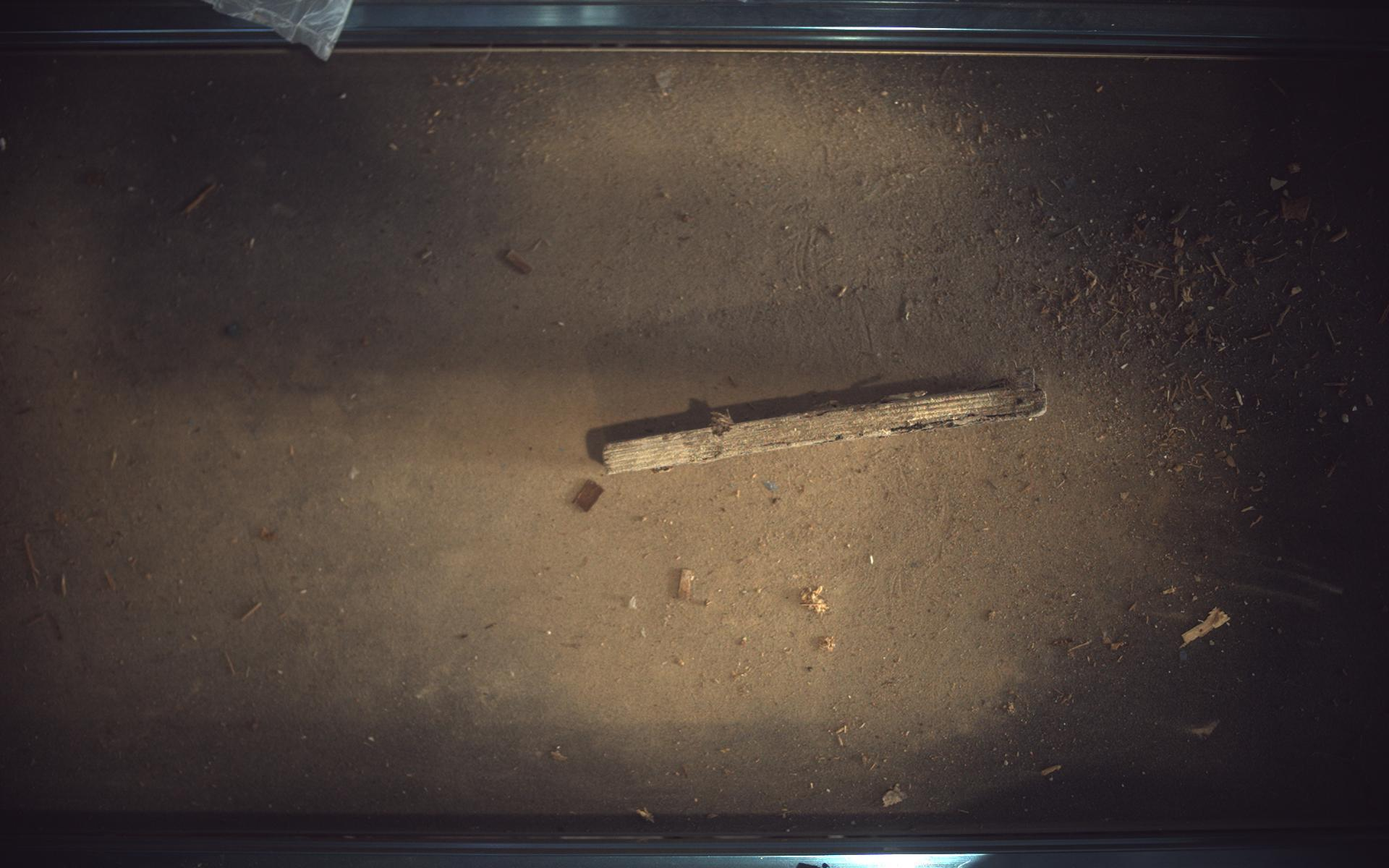wood: (603, 370, 1048, 475)
